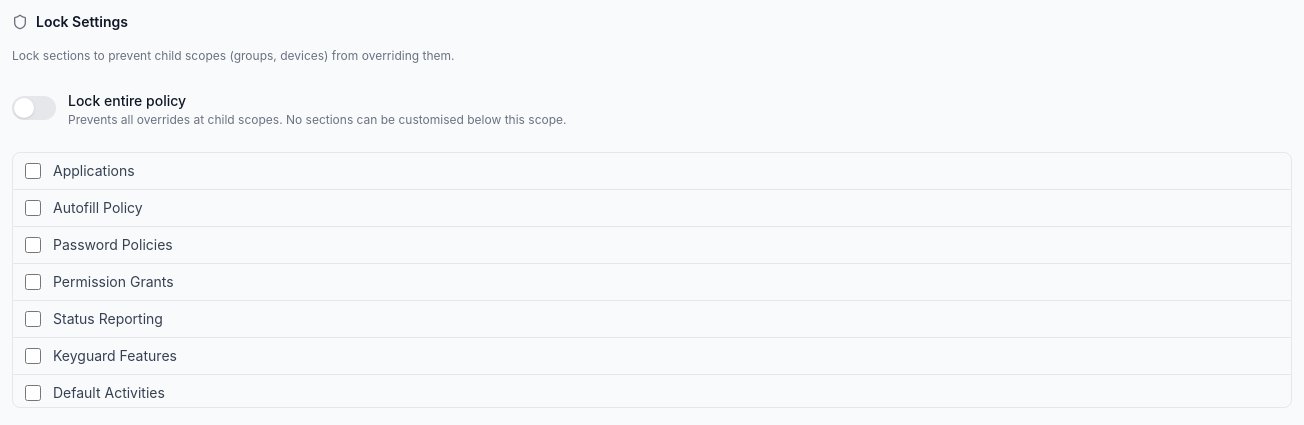
Test: policy lock editing generation and usability › keeps dirty values and useful server conflict wording after a failed save
This screenshot has width=1304, height=425.
Step 1. Click the switch named "Lock entire policy" → (34, 108), box [12,96,56,120]
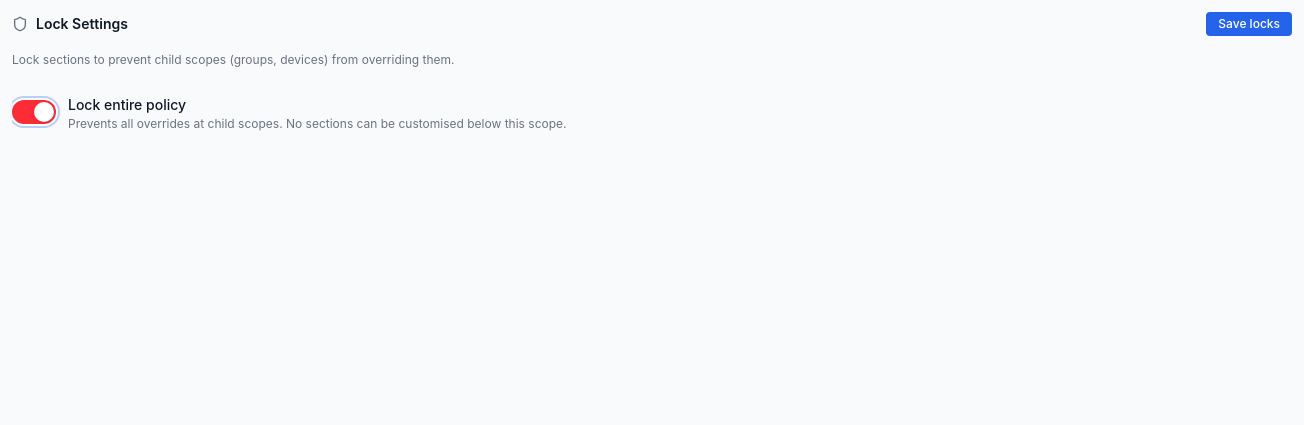
Step 2. Click the button "Save locks" → (1249, 24), box [1206,12,1292,36]
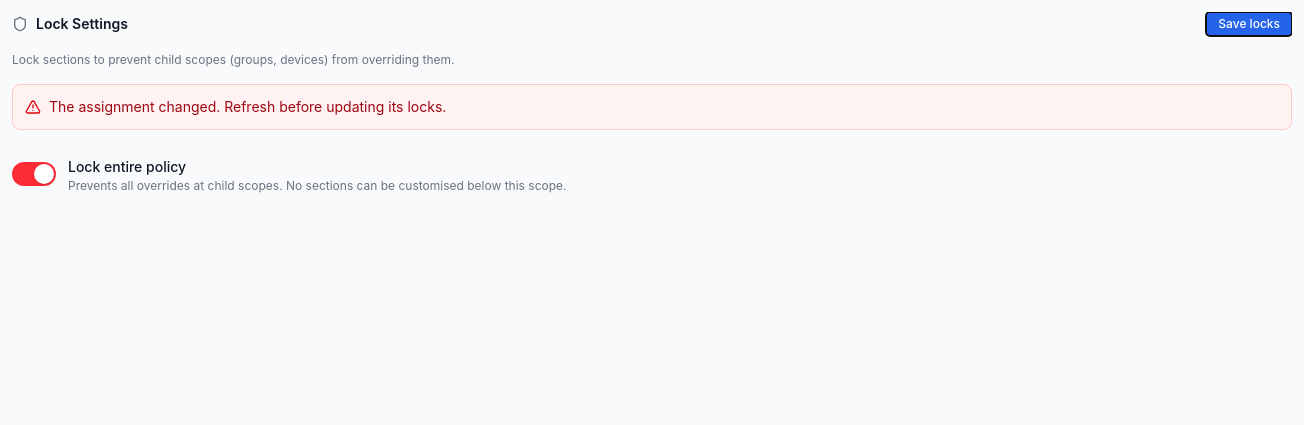
Check: the text "The assignment changed. Refresh before updating its locks." is shown, box [49,97,446,117]
